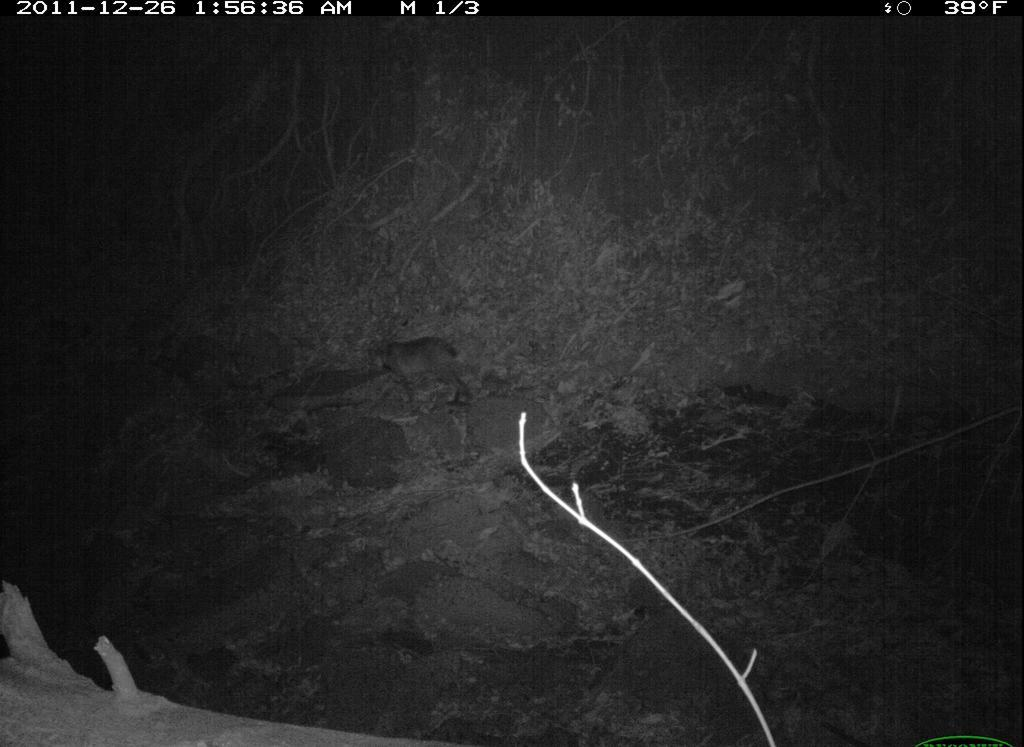bobcat: (373, 328, 477, 410)
